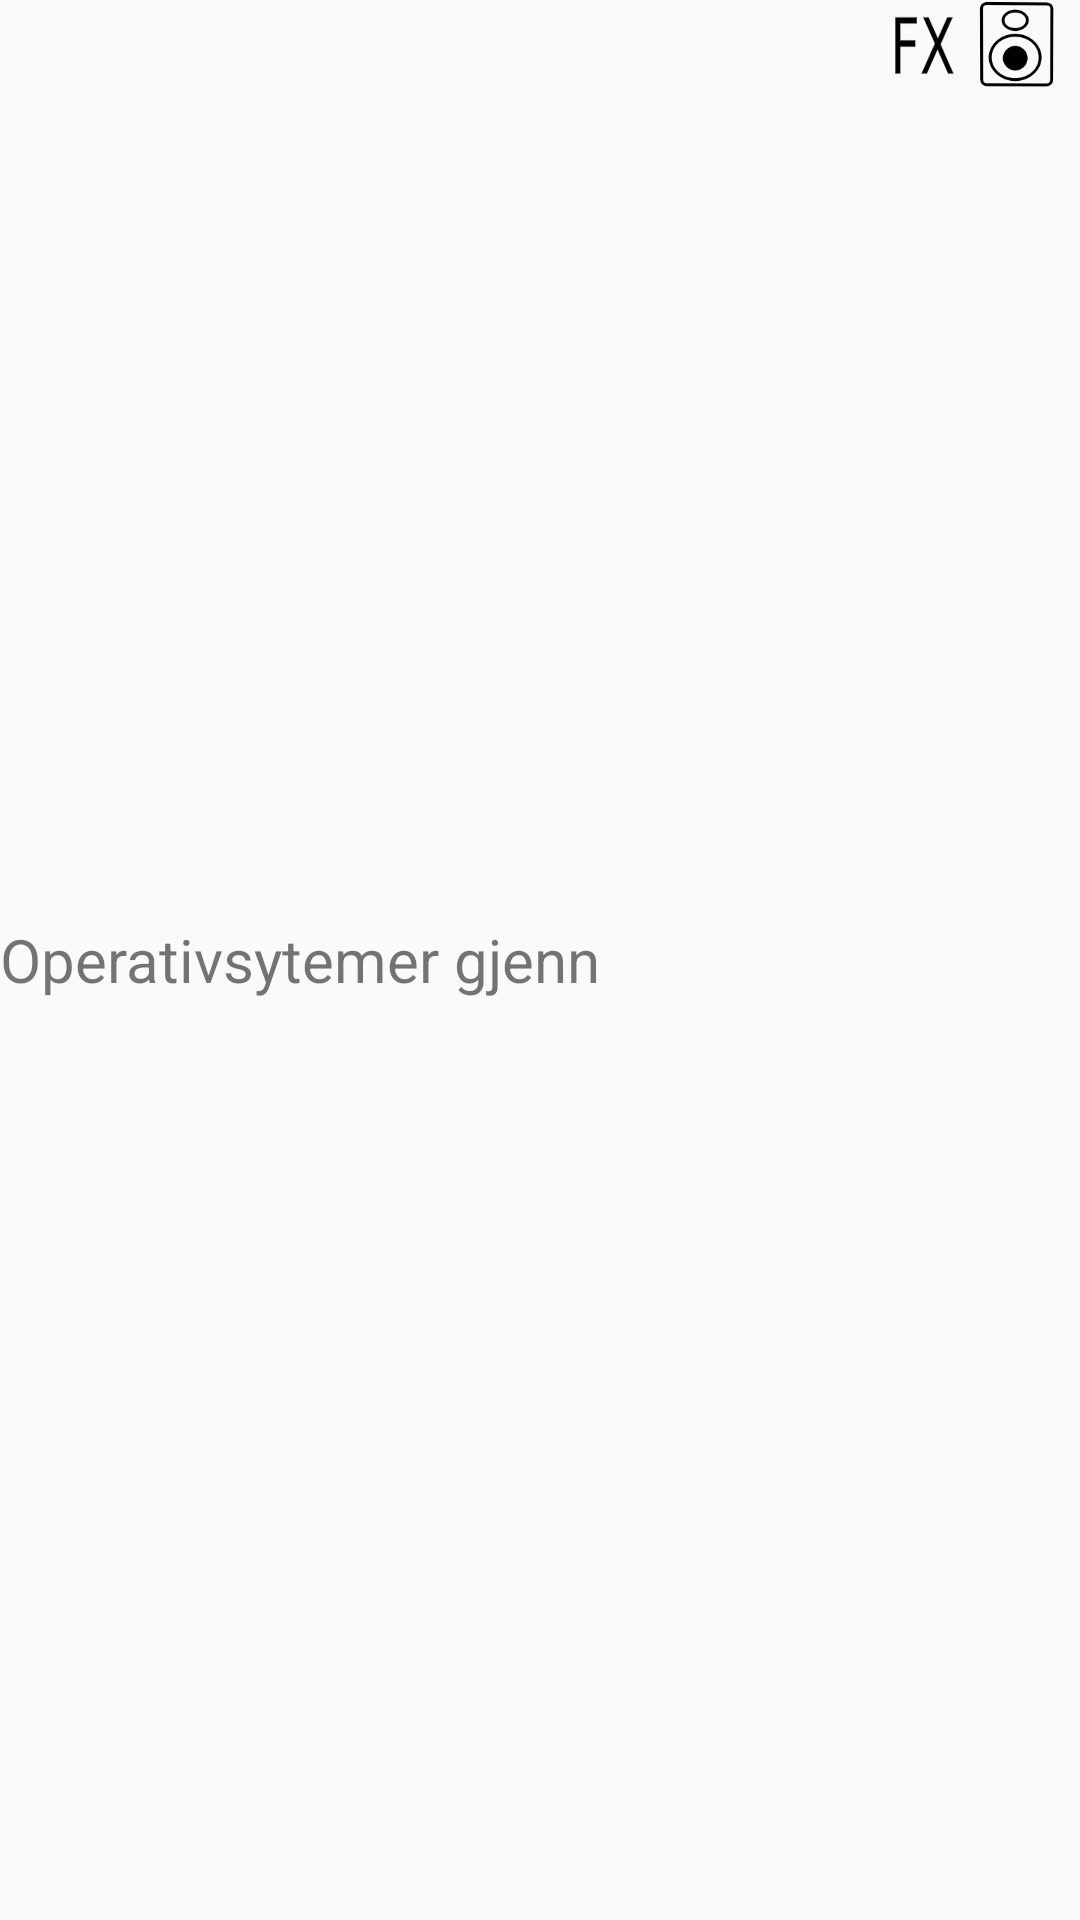

Locate icon controls on the screen. Image size 1080×1920, boxes as (x1, y1, x2, y2).
music: (980, 2, 1054, 87)
